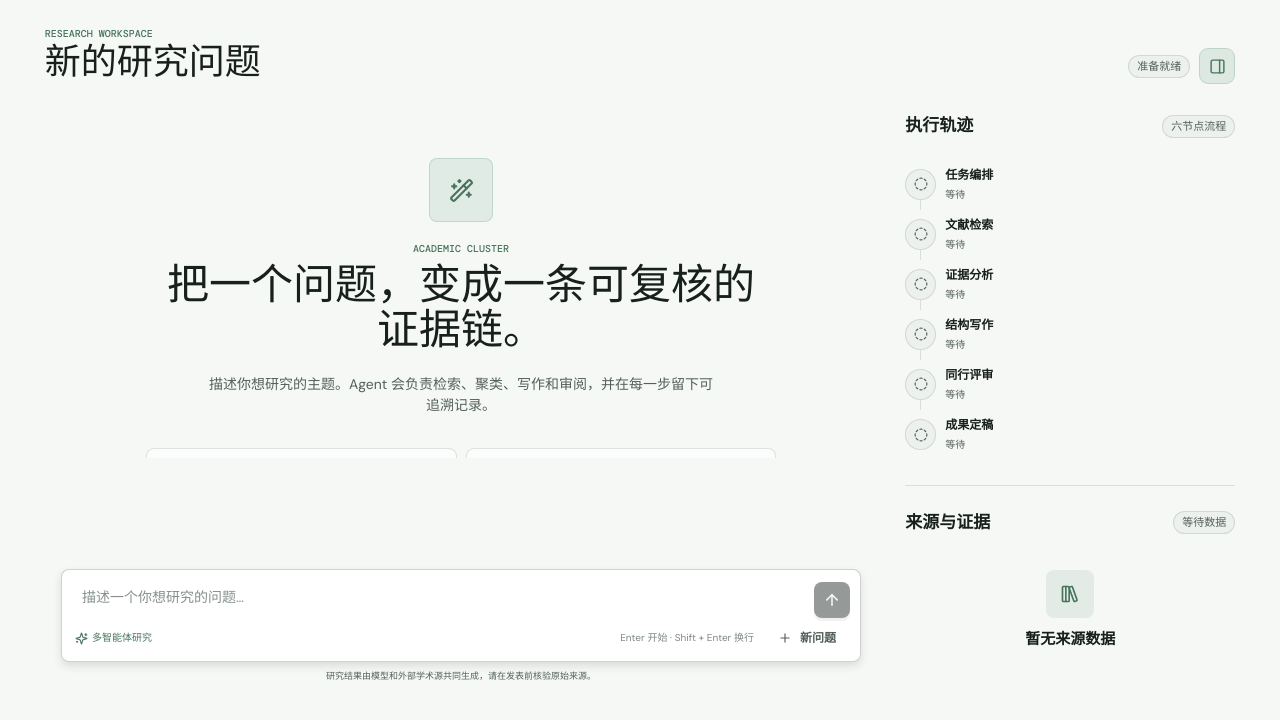
ChatPage pipeline startup › expands the main workspace when the execution rail is hidden
The width and height of the screenshot is (1280, 720).
Click the button named "切换执行轨迹". click: (1217, 66)
box: left=1199, top=48, right=1235, bottom=84
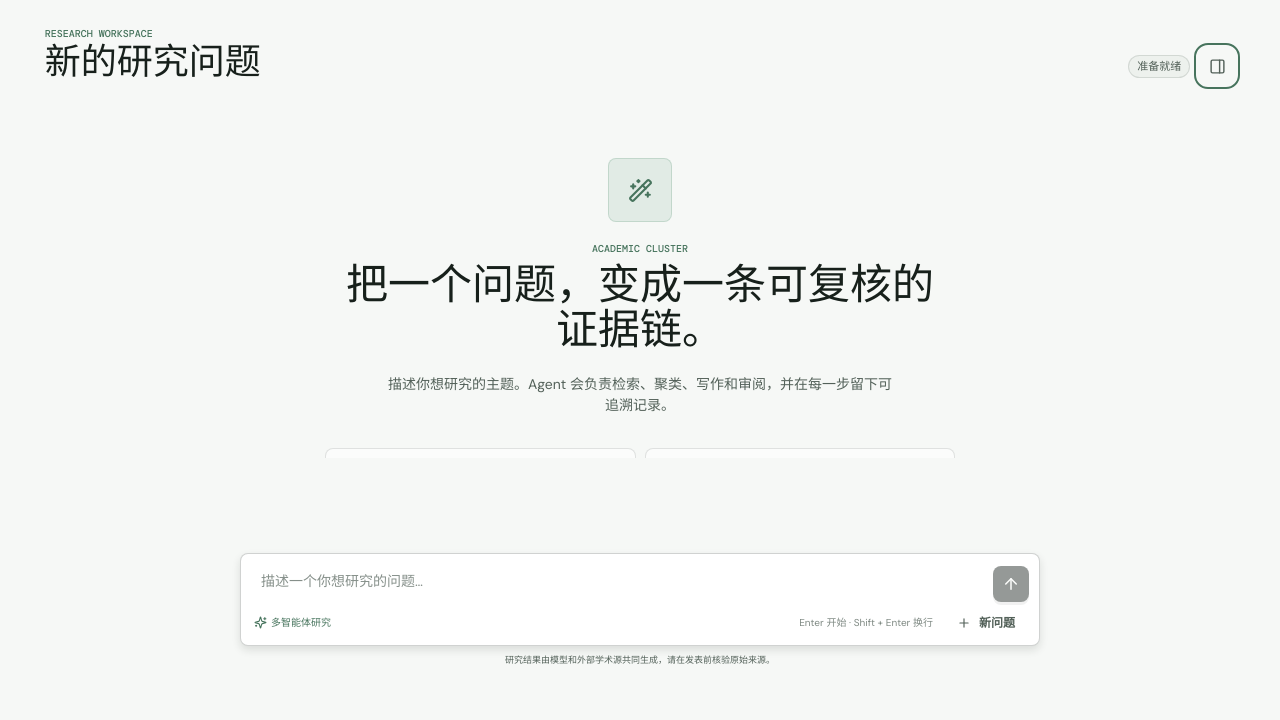
Check: the element with class "chat-right-rail" is gone
